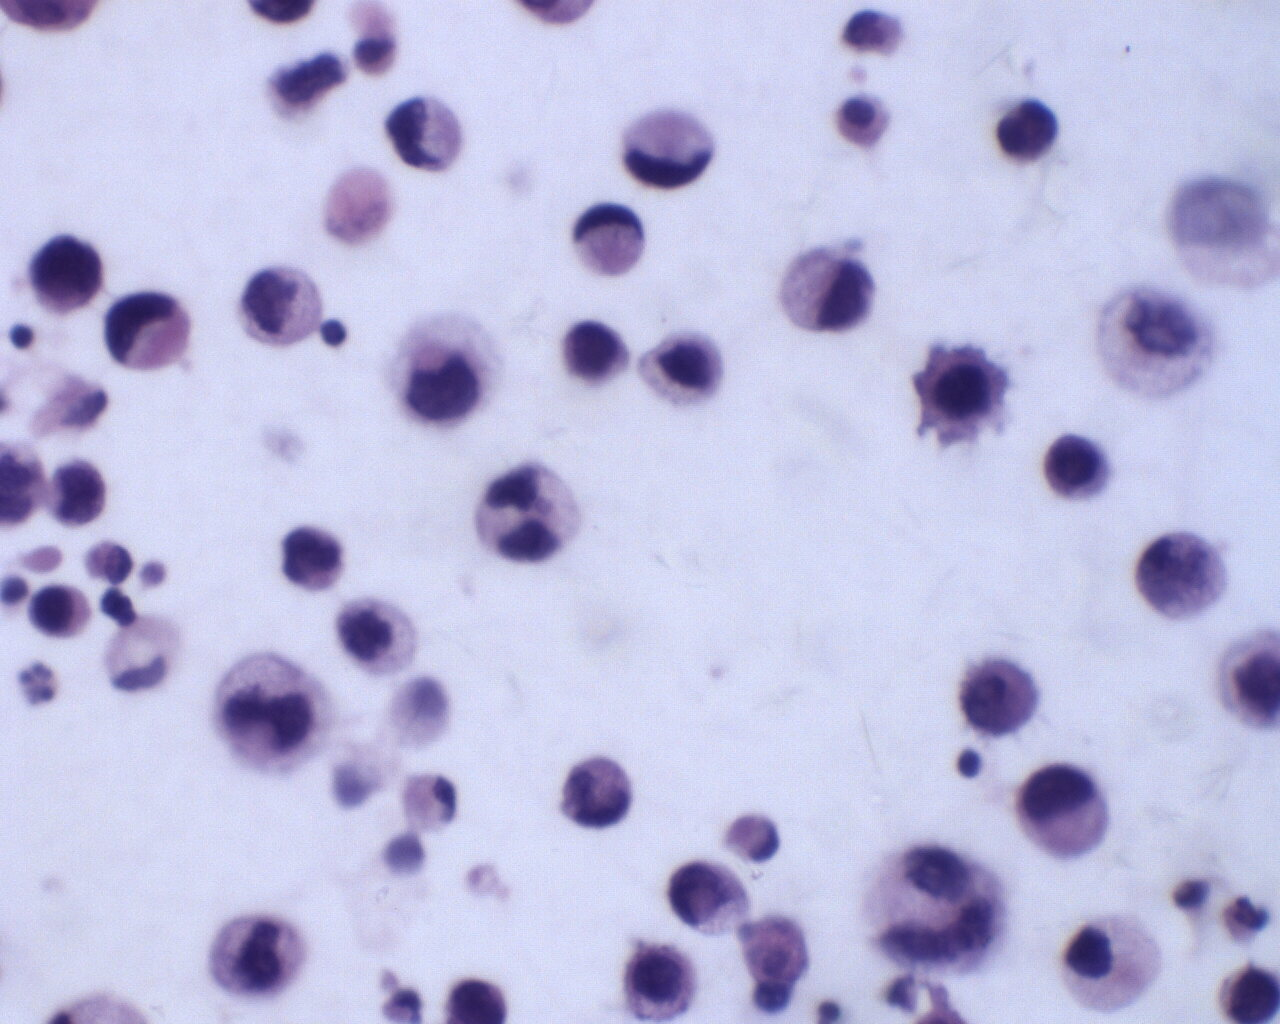ab: (902, 336, 1021, 442), (205, 899, 316, 1009), (1017, 754, 1116, 860), (237, 260, 327, 357), (380, 84, 470, 177), (957, 651, 1046, 744), (665, 855, 754, 942), (610, 940, 704, 1024), (334, 595, 423, 677), (24, 234, 109, 317), (557, 755, 643, 829), (560, 320, 633, 397), (278, 518, 349, 594), (1042, 428, 1113, 504), (43, 456, 113, 527), (26, 577, 95, 642)
histo: (1050, 910, 1173, 1017), (619, 98, 721, 197), (564, 197, 653, 286)
meso: (832, 83, 897, 152)
